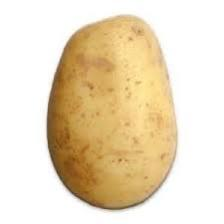Potato: (50, 11, 174, 213)
